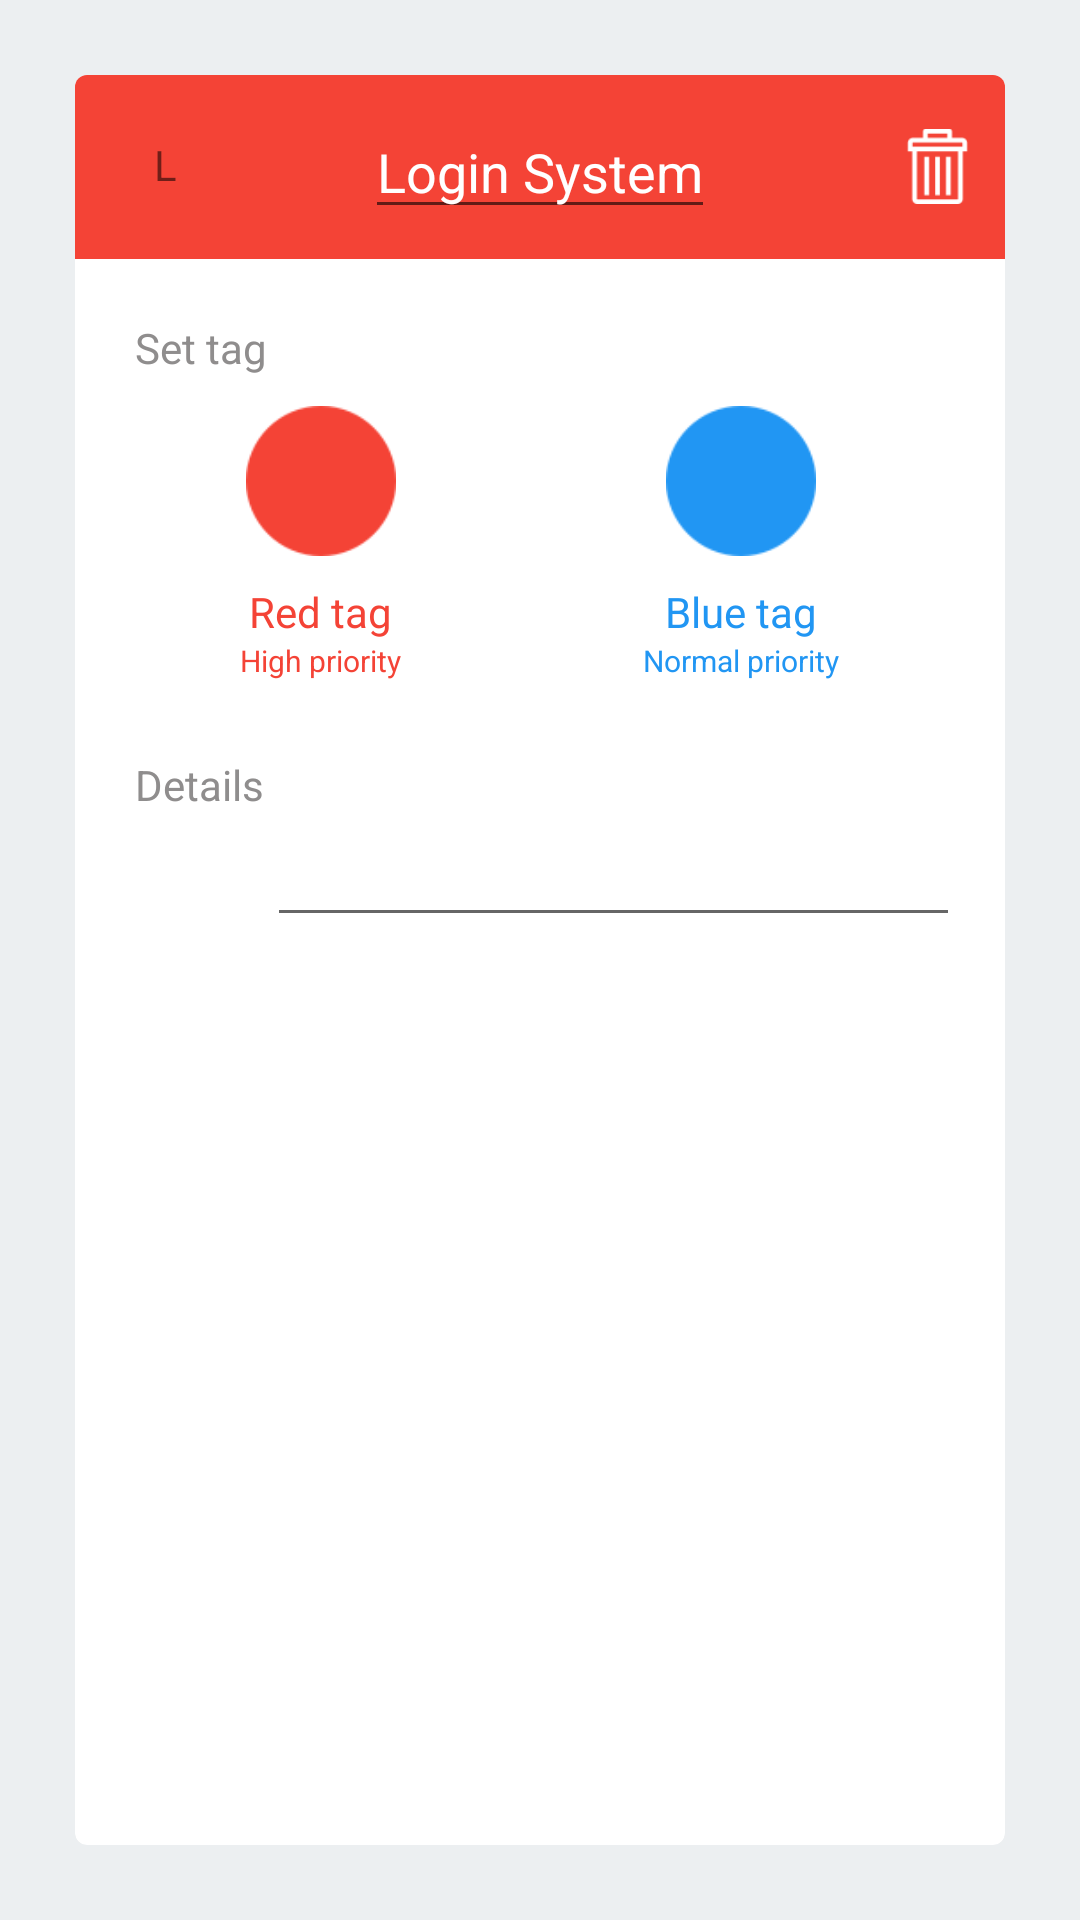

Icons on this 1080x1920 Android screen, each with its box as (x1,y1,x2,y2):
bin: (907,129,968,204)
